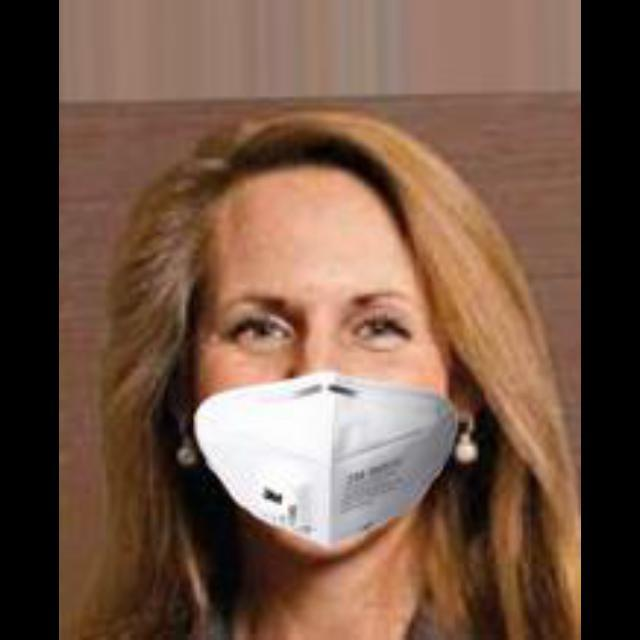suspicion: (99, 70, 507, 546)
